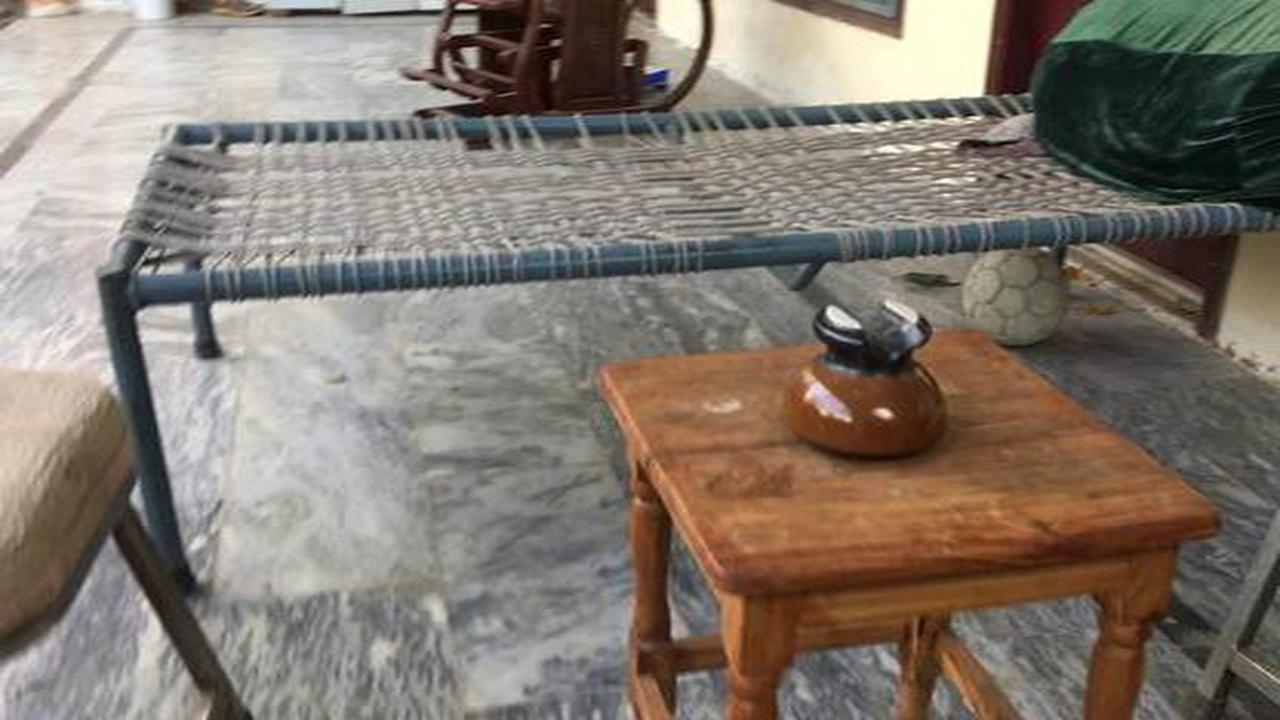insulator_pin: (767, 286, 982, 473)
